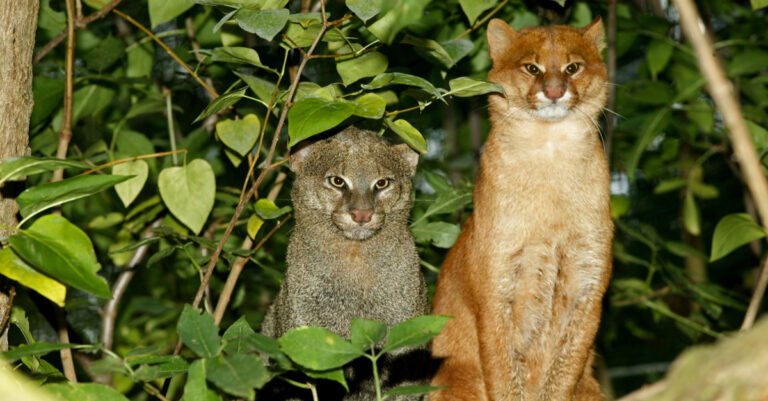Jaguarundi: (458, 12, 622, 389), (280, 121, 425, 334)
